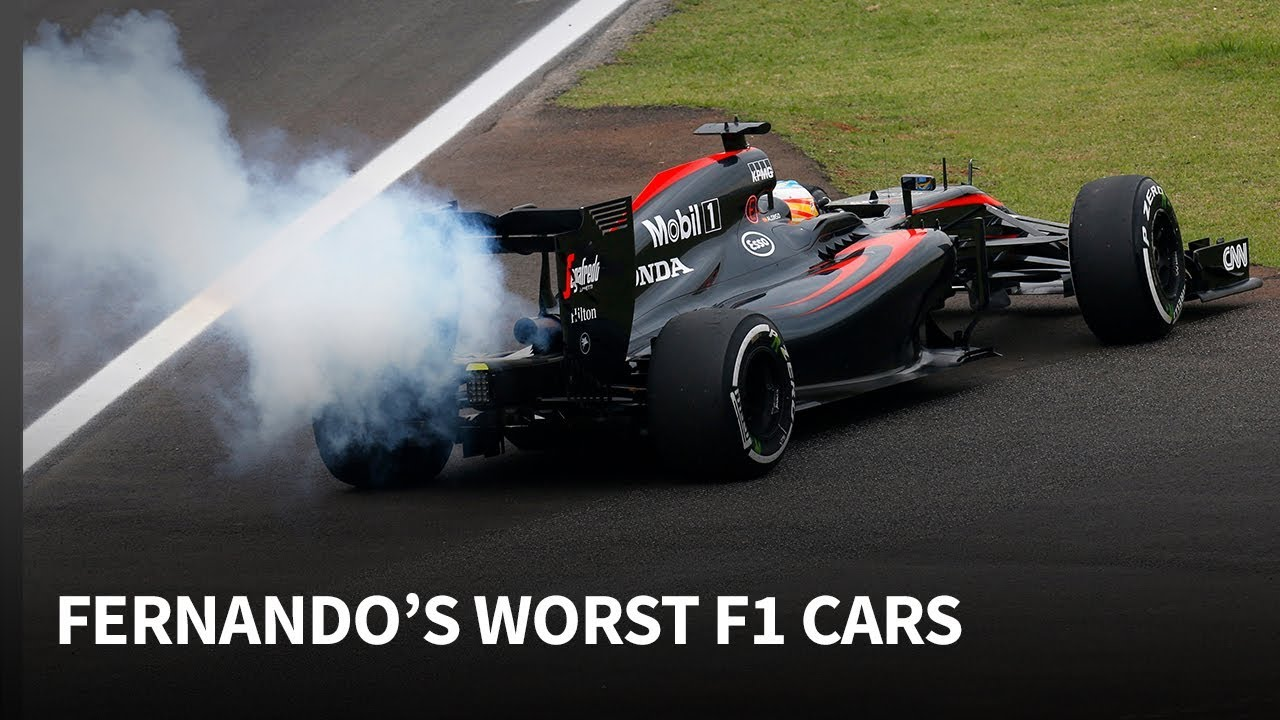f1_car: (290, 97, 1269, 517)
helmet: (764, 172, 822, 225)
